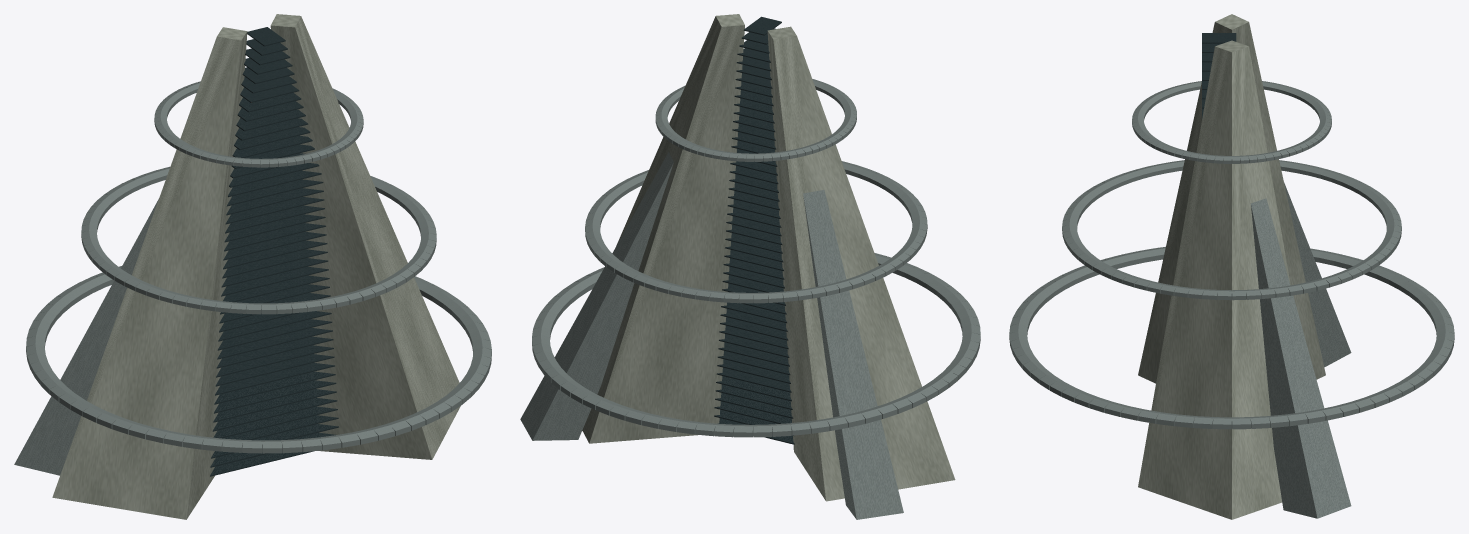
The model's file is scrith_memory_spire_01.fbx.
3 renders of one model, left to right at view 1: azimuth 30°, elevation 25°; view 2: azimuth 150°, elevation 25°; view 3: azimuth 270°, elevation 25°, orthographic. The views are drawn at different scales.
Visible parts, largest first — view 1: scrith_memory_spire_01_LOD0; view 2: scrith_memory_spire_01_LOD0; view 3: scrith_memory_spire_01_LOD0.
Part boxes in pixels (x1,y1,x2,y2): scrith_memory_spire_01_LOD0: (14,14,491,519); scrith_memory_spire_01_LOD0: (520,14,980,519); scrith_memory_spire_01_LOD0: (1009,14,1454,519).
Size of what is drawn, in the model's own units: 1 by 1 by 1.
